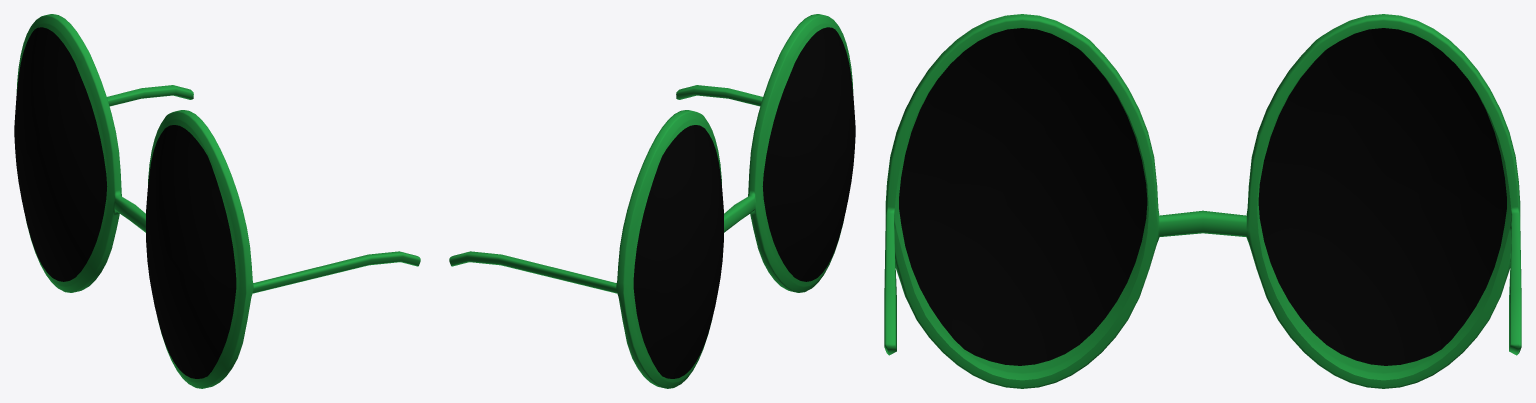
Rendered from lijpe_alien_bril (1).fbx.
3 views of the same model, side by side, from view 1: azimuth 30°, elevation 25°; view 2: azimuth 150°, elevation 25°; view 3: azimuth 270°, elevation 25° (orthographic). The views are drawn at different scales.
Visible parts, largest first — view 1: pDisc4; view 2: pDisc4; view 3: pDisc4.
Part boxes in pixels (x1,y1,x2,y2): pDisc4: (14, 14, 420, 388); pDisc4: (449, 14, 855, 388); pDisc4: (884, 14, 1521, 388).
Bounding box in the file's own units: 3.57 × 4.45 × 6.91.
